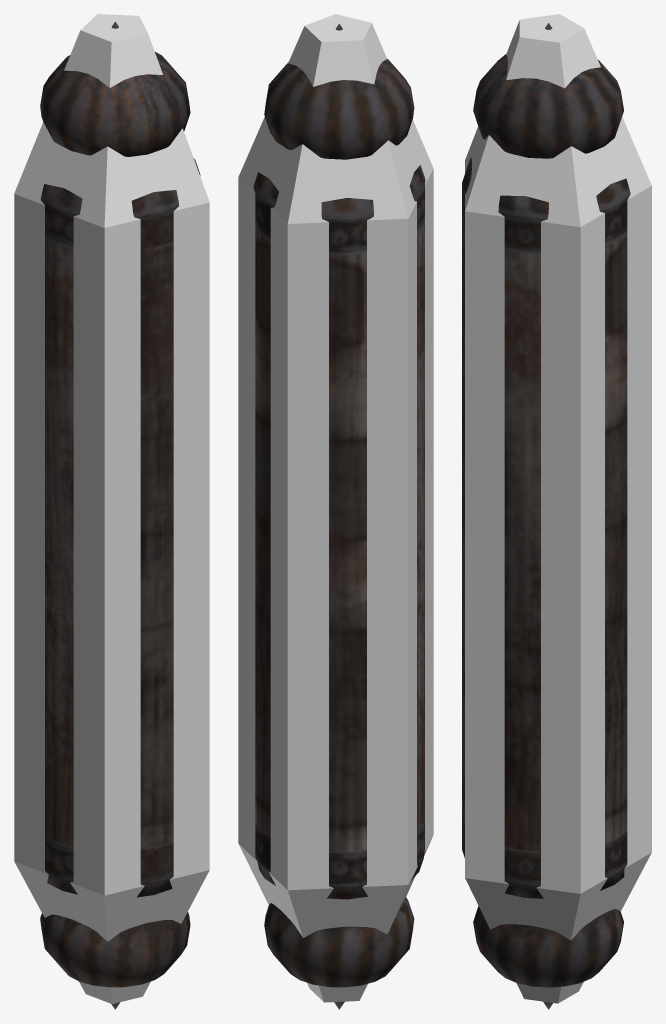
The model's file is JD_Bridge_A_Pole_02.fbx.
The picture shows the model from 3 angles, left to right: view 1: azimuth 30°, elevation 25°; view 2: azimuth 150°, elevation 25°; view 3: azimuth 270°, elevation 25°; orthographic projection.
Visible parts, largest first — view 1: C_JD_Bridge_A_Pole_02, JD_Bridge_A_Pole_02; view 2: C_JD_Bridge_A_Pole_02, JD_Bridge_A_Pole_02; view 3: C_JD_Bridge_A_Pole_02, JD_Bridge_A_Pole_02.
Part boxes in pixels (x1,y1,x2,y2): C_JD_Bridge_A_Pole_02: (14, 14, 209, 1003); JD_Bridge_A_Pole_02: (40, 21, 200, 1009); C_JD_Bridge_A_Pole_02: (238, 14, 433, 1002); JD_Bridge_A_Pole_02: (253, 23, 425, 1009); C_JD_Bridge_A_Pole_02: (465, 14, 651, 1003); JD_Bridge_A_Pole_02: (462, 23, 630, 1009).
Bounding box in the file's own units: 0.5423 × 3.01 × 0.5241.
